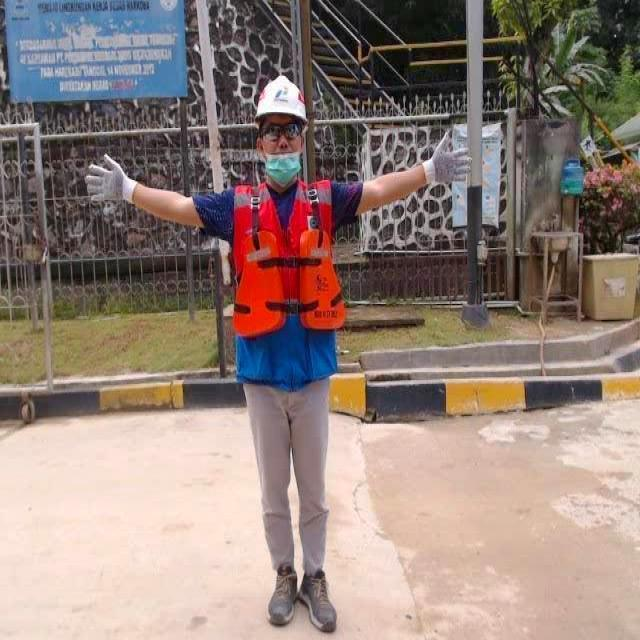Gloves: (422, 128, 472, 185), (84, 153, 137, 204)
